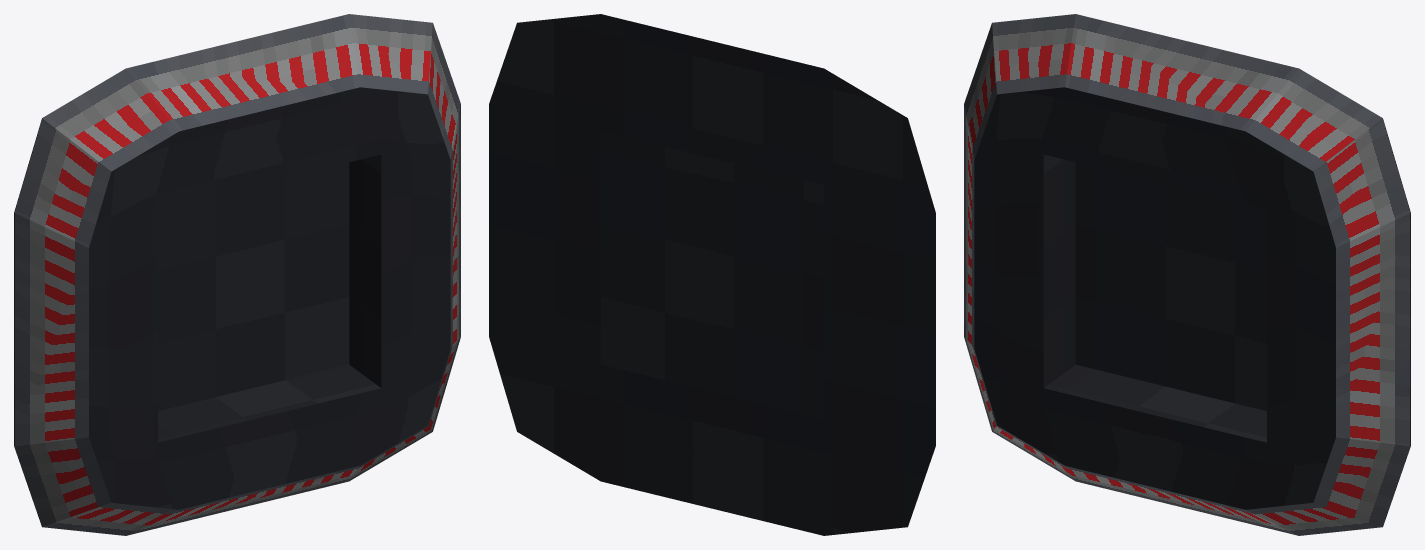
Rendered from lens.obj.
3 views of the same model, side by side, from view 1: azimuth 30°, elevation 25°; view 2: azimuth 150°, elevation 25°; view 3: azimuth 330°, elevation 25° (orthographic).
Parts seen in each view (by area): view 1: Cube_Cube.002; view 2: Cube_Cube.002; view 3: Cube_Cube.002.
Boxes of the visible parts, x1,y1,x2,y2 form: Cube_Cube.002: [14, 14, 460, 535]; Cube_Cube.002: [489, 14, 935, 535]; Cube_Cube.002: [964, 14, 1410, 535].
Size of the model in its own units: 0.8 by 0.8 by 0.1.
